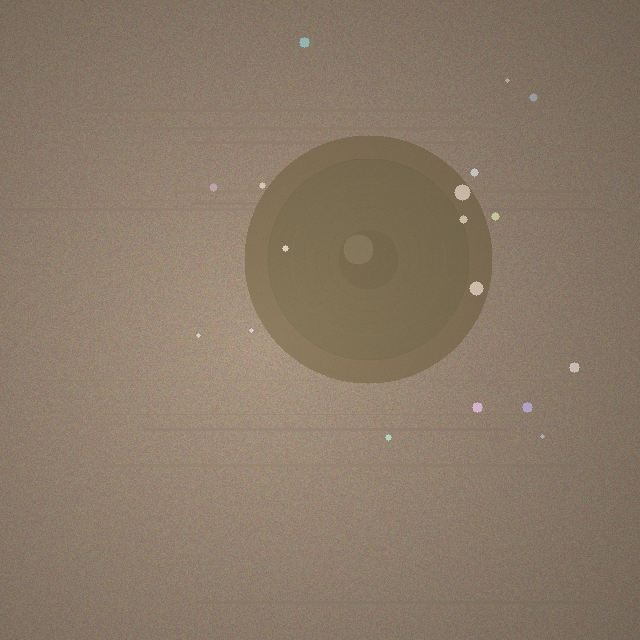overburn: (244, 135, 492, 383)
